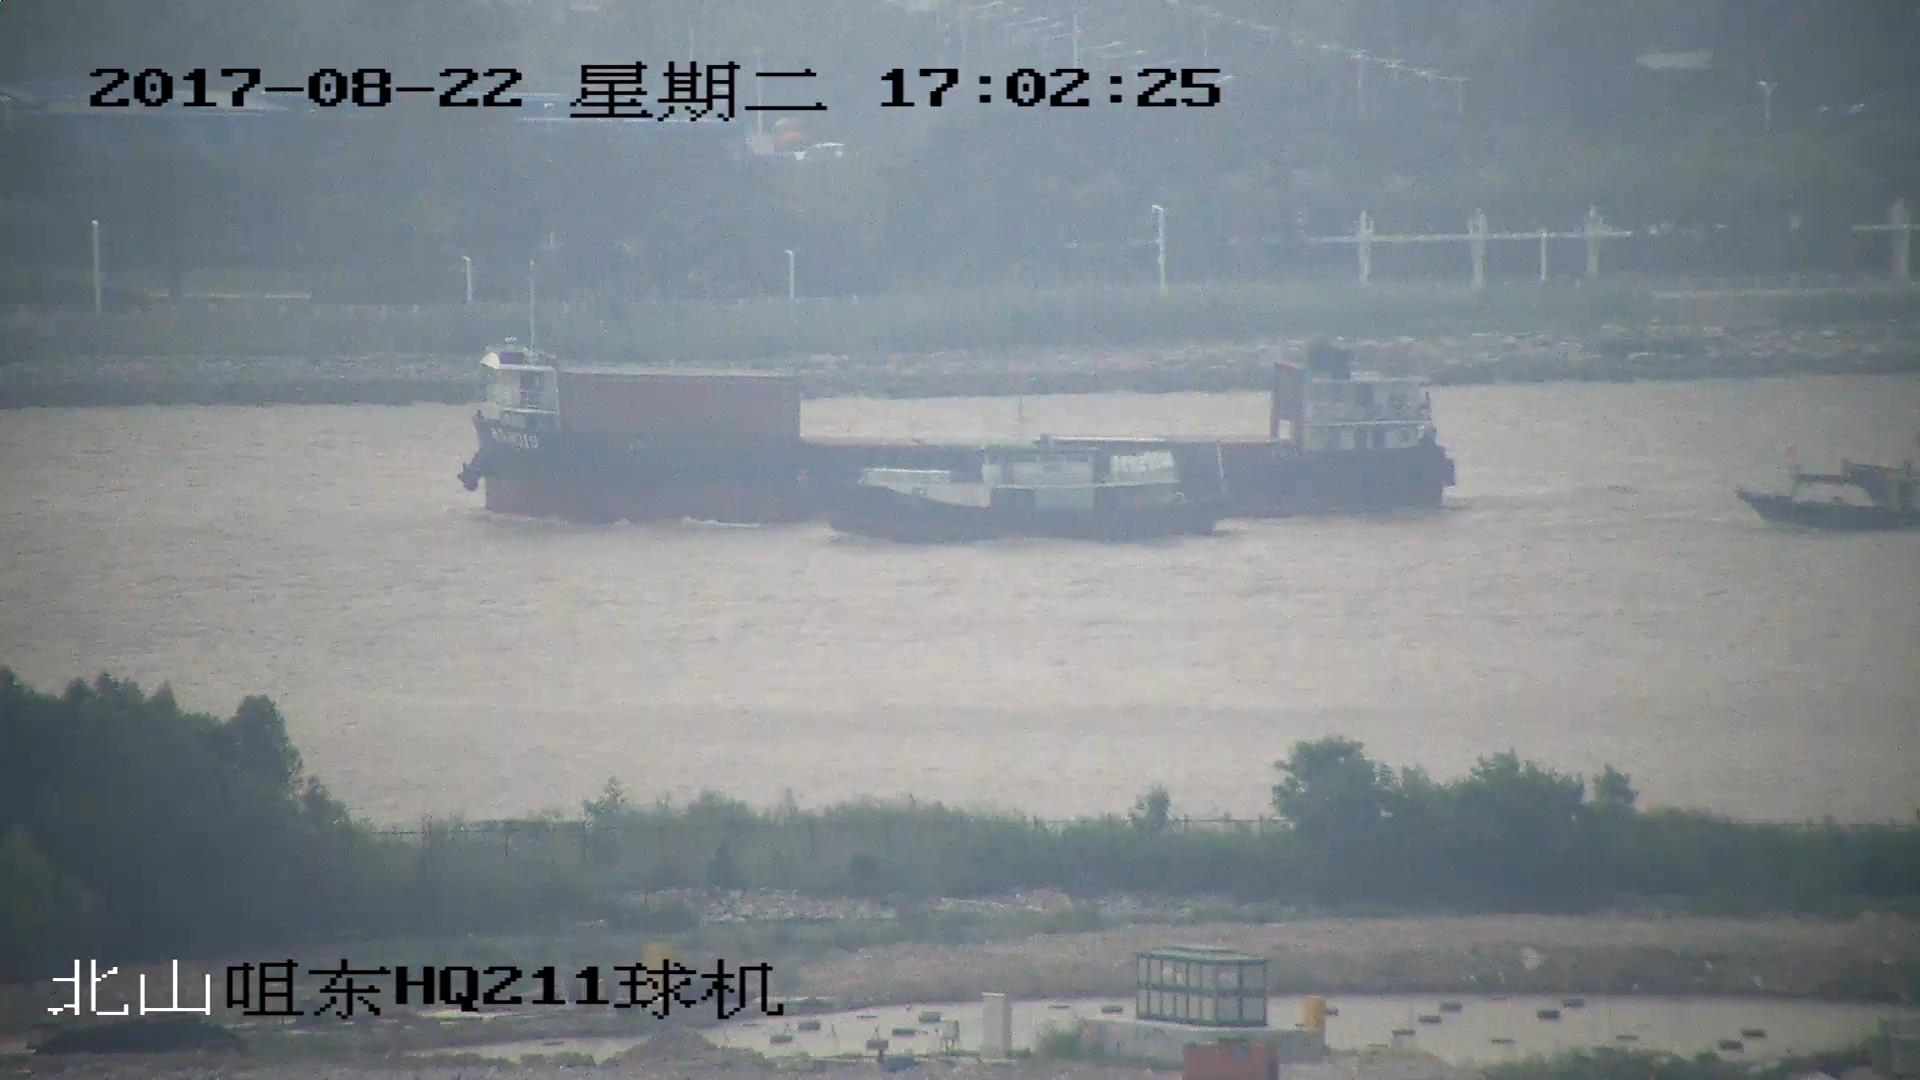fishing boat: (829, 446, 1204, 550), (1738, 452, 1920, 531)
general cargo ship: (453, 333, 1450, 527)
